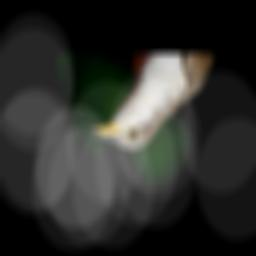Cuckoo: (89, 54, 214, 150)
